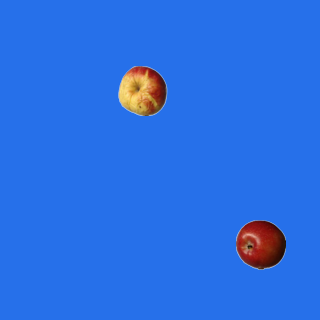Apple Braeburn: (235, 219, 285, 269)
Apple Red Yellow 1: (117, 65, 167, 115)
